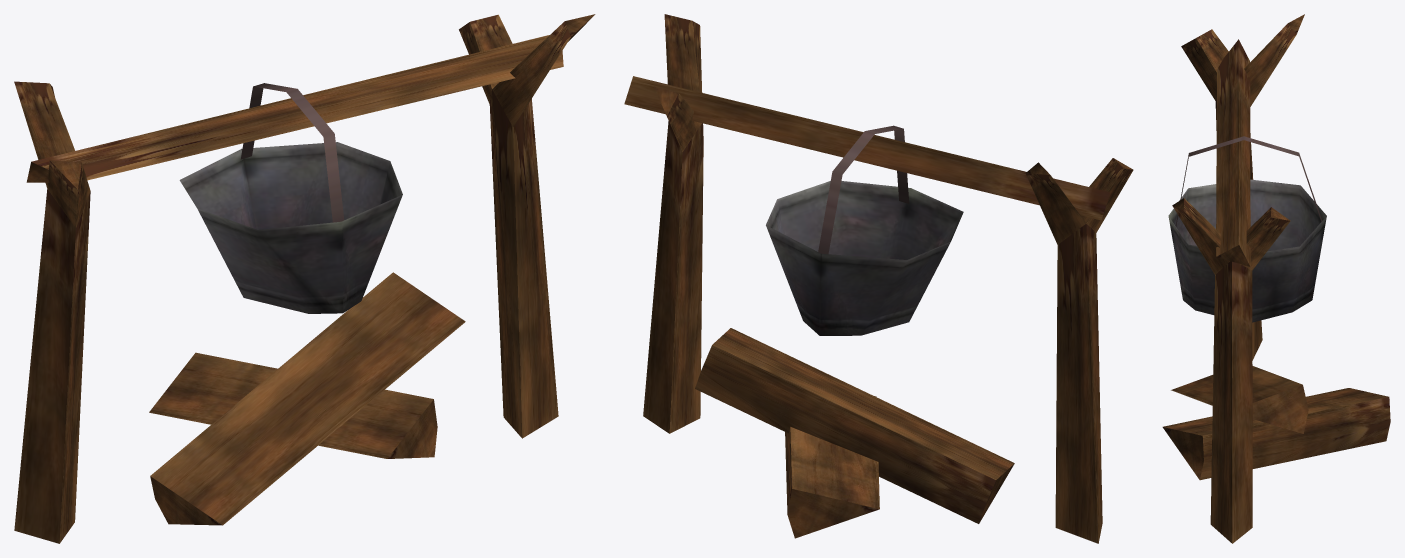
File: cauldron.fbx
3 views of the same model, side by side, from view 1: azimuth 30°, elevation 25°; view 2: azimuth 150°, elevation 25°; view 3: azimuth 270°, elevation 25° (orthographic). The views are drawn at different scales.
Visible parts, largest first — view 1: log18, potA_basin03, log15, log14, log11, log17, potA_basin02, potA_handle00; view 2: log18, potA_basin03, log14, log15, log11, log17, potA_basin02, potA_handle00; view 3: log14, potA_basin03, log17, log11, log15, log18, potA_basin02, potA_handle00.
Part boxes in pixels (box(x1,y1,x2,y2)): log18: box(150, 272, 465, 525); potA_basin03: box(179, 142, 402, 313); log15: box(14, 81, 90, 543); log14: box(459, 14, 595, 438); log11: box(26, 35, 563, 182); log17: box(149, 352, 437, 458); potA_basin02: box(188, 145, 401, 313); potA_handle00: box(240, 83, 344, 222); log18: box(695, 328, 1014, 523); potA_basin03: box(766, 181, 963, 335); log14: box(643, 14, 703, 433); log15: box(1025, 158, 1133, 543); log11: box(624, 76, 1110, 220); log17: box(785, 396, 879, 538); potA_basin02: box(771, 182, 961, 334); potA_handle00: box(818, 125, 909, 254); log14: box(1172, 198, 1290, 543); potA_basin03: box(1168, 179, 1326, 322); log17: box(1162, 388, 1390, 480); log11: box(1216, 39, 1250, 266); log15: box(1181, 14, 1304, 360); log18: box(1171, 366, 1308, 433); potA_basin02: box(1169, 181, 1324, 322); potA_handle00: box(1175, 136, 1322, 226).
Bounding box in the file's own units: 353 × 281 × 164.
1 material, 1 textured.
